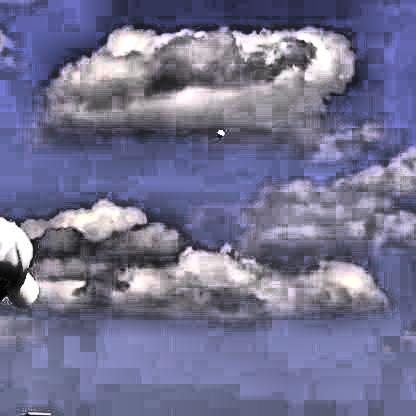golfball: (216, 128, 226, 138)
